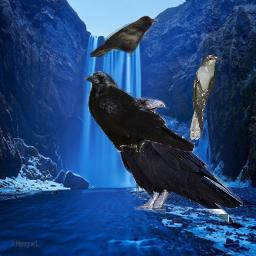Crow: (118, 97, 243, 224), (84, 71, 195, 152), (90, 15, 158, 57)
Cuckoo: (189, 54, 221, 140)
